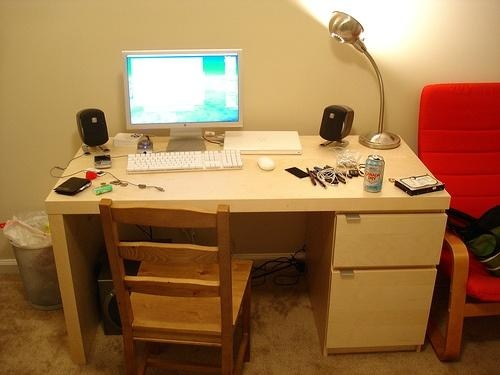chair: (101, 199, 255, 375), (422, 84, 500, 359)
tvmonitor: (123, 50, 244, 153)
